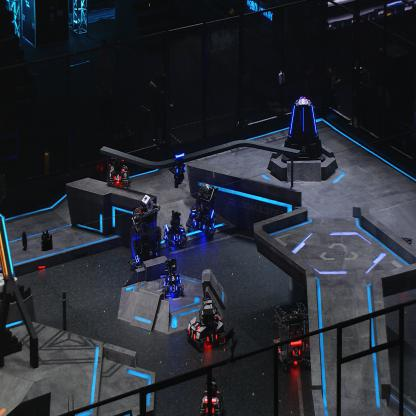car: (272, 301, 313, 372), (185, 294, 226, 352), (128, 202, 163, 268), (185, 182, 218, 239), (163, 209, 187, 249), (160, 256, 183, 297), (200, 378, 224, 416), (107, 154, 130, 189)
